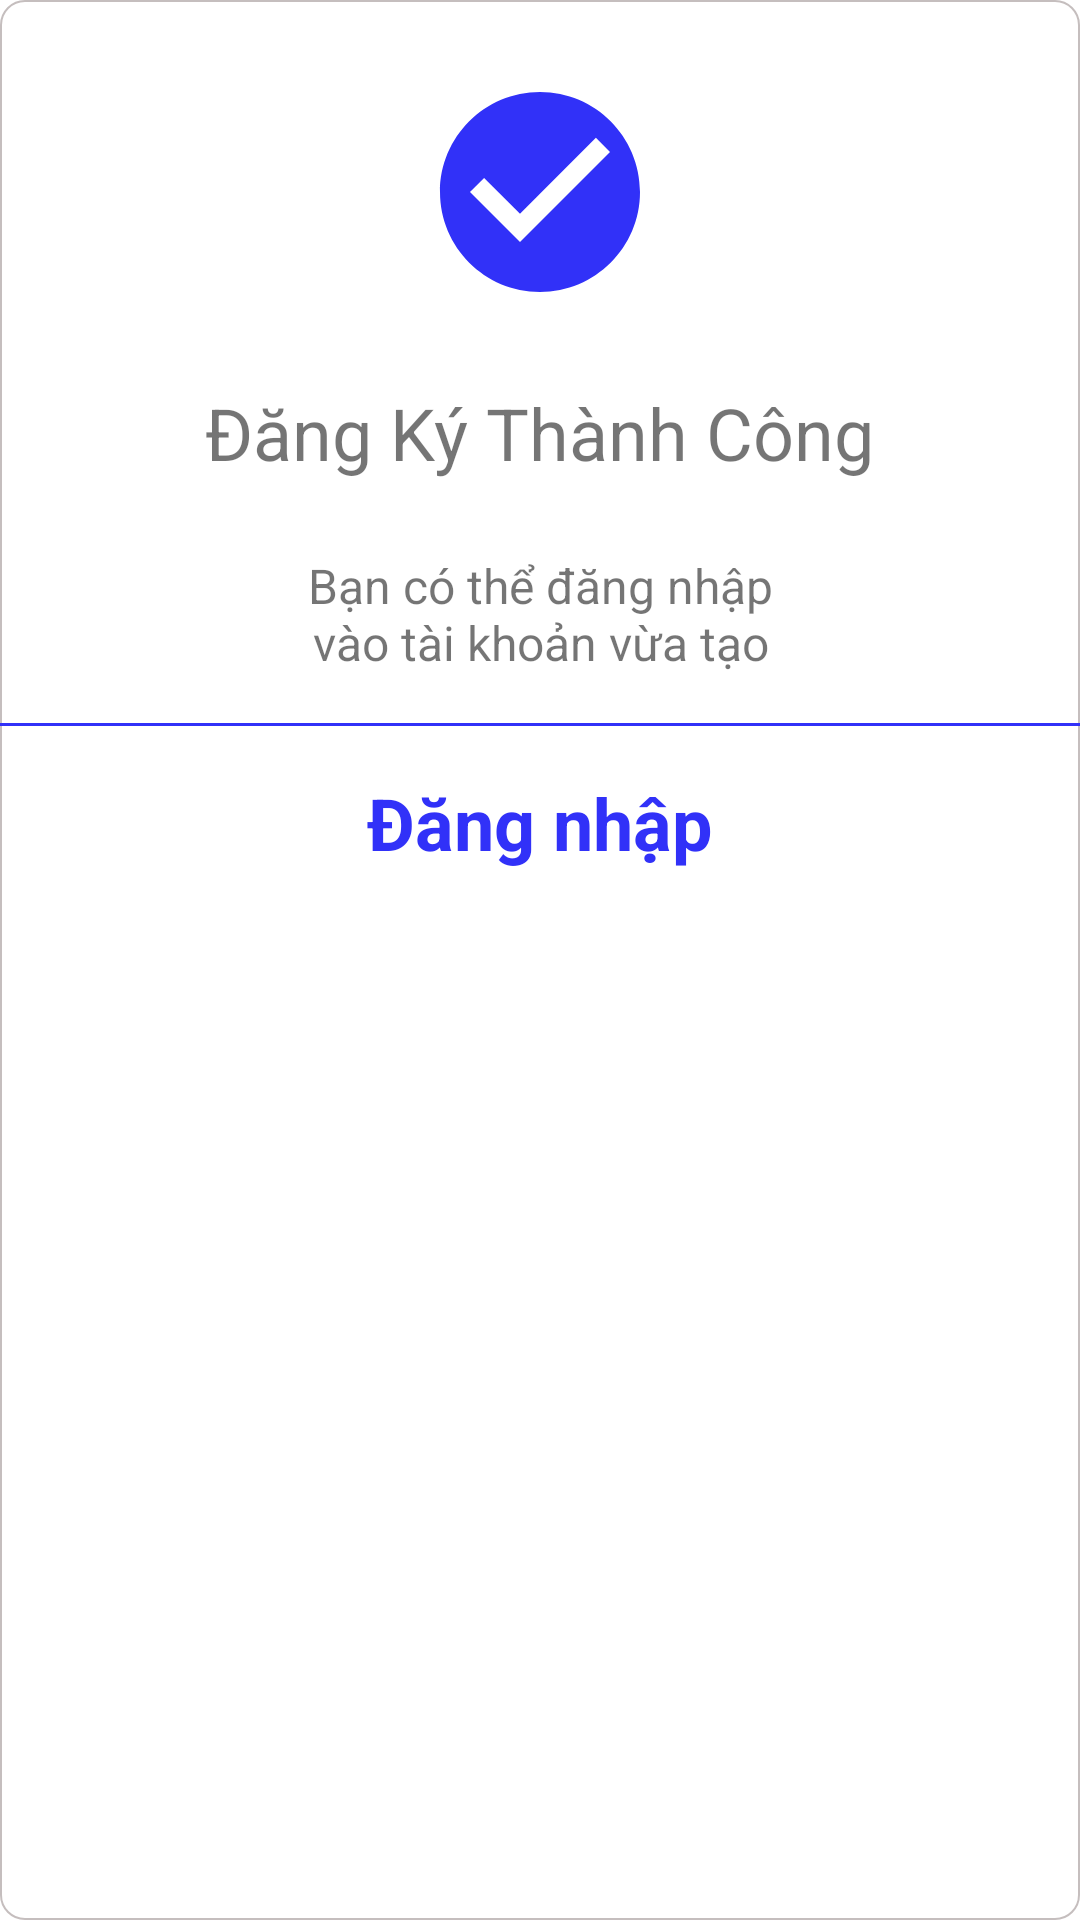

Icons on this 1080x1920 Android screen, each with its box as bbox(x1, y1, x2, y2):
check circle: bbox(440, 92, 640, 292)
